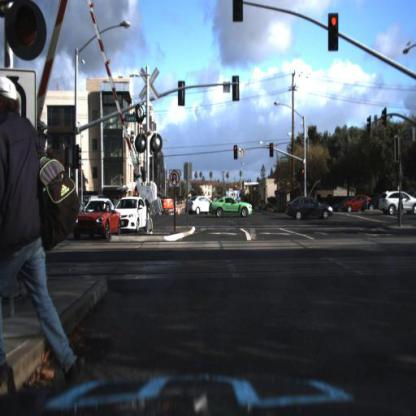car: (72, 200, 125, 242), (115, 196, 153, 240), (285, 195, 335, 222), (207, 195, 255, 222), (363, 192, 406, 215), (75, 199, 102, 233), (185, 193, 221, 218), (344, 195, 375, 214)
pedestrian: (2, 72, 85, 398)
trafficLight: (11, 2, 45, 57), (233, 2, 245, 24)
trafficLight-Red: (328, 14, 340, 52), (269, 140, 277, 161), (301, 165, 307, 186), (233, 143, 239, 161), (271, 142, 275, 158)
